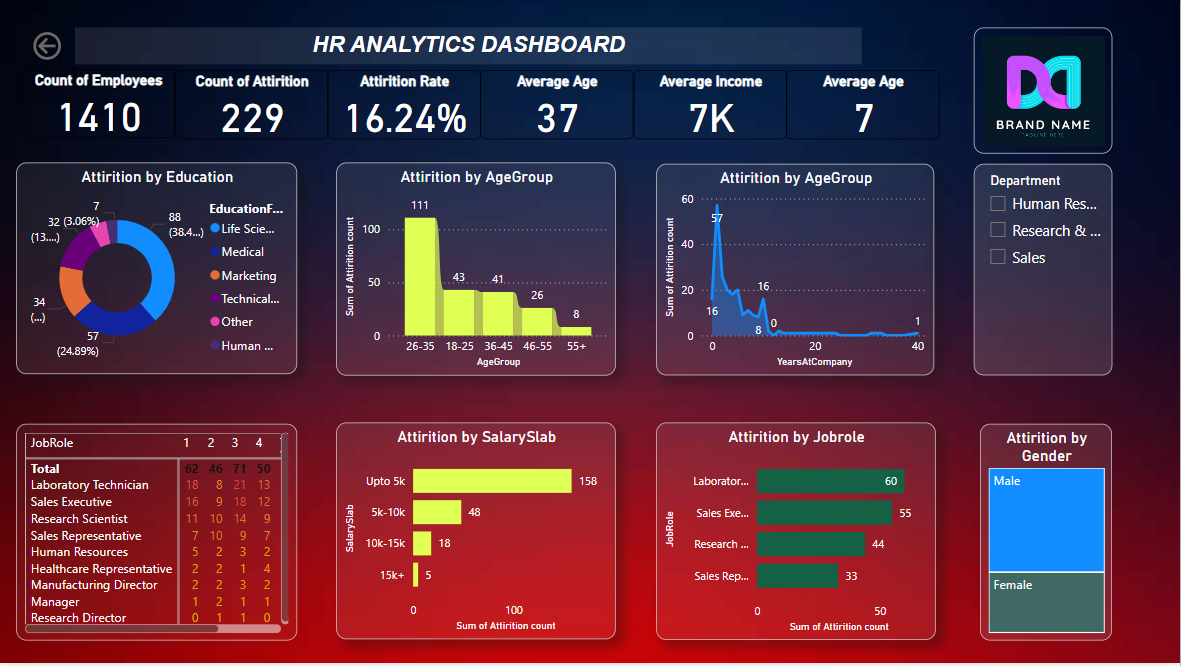

What the dashboard file says about the page in this screenshot:
{"tool":"powerbi","page":{"name":"Page 1","canvas":[1280,720],"ordinal":0},"visuals":[{"type":"card","title":"Count of Employees","fields":{"Values":["CountNonNull(HR_Analytics.EmpID)"]},"box":[23.2,75.1,166.7,75.1],"z":0},{"type":"card","title":"Count  of Attirition","fields":{"Values":["Sum(HR_Analytics.Attirition count)"]},"box":[189.3,75.4,166,75.5],"z":1000},{"type":"card","title":"Attirition Rate","fields":{"Values":["HR_Analytics.attrirtion rate"]},"box":[355.4,75.4,166,75.5],"z":2000},{"type":"card","title":"Average Age","fields":{"Values":["Avg(HR_Analytics.Age)"]},"box":[521.4,75.4,166,75.5],"z":3000},{"type":"card","title":"Average Income","fields":{"Values":["Avg(HR_Analytics.MonthlyIncome)"]},"box":[687.5,75.4,166,75.5],"z":4000},{"type":"card","title":"Average Age","fields":{"Values":["Avg(HR_Analytics.YearsAtCompany)"]},"box":[853.5,75.4,166,75.5],"z":5000},{"type":"actionButton","box":[31.8,29.6,100,40],"z":6000},{"type":"donutChart","title":"Attirition by Education","fields":{"Category":["HR_Analytics.EducationField"],"Y":["Sum(HR_Analytics.Attirition count)"]},"box":[17.8,176.3,304.7,229.5],"z":7000},{"type":"columnChart","title":"Attirition by AgeGroup","fields":{"Category":["HR_Analytics.AgeGroup"],"Y":["Sum(HR_Analytics.Attirition count)"]},"box":[364.8,176.3,303.3,230.9],"z":8000},{"type":"pivotTable","title":"Attirition byGender","fields":{"Values":["Sum(HR_Analytics.Attirition count)"],"Columns":["HR_Analytics.JobSatisfaction"],"Rows":["HR_Analytics.JobRole"]},"box":[17.8,459.1,304.7,235],"z":9000},{"type":"clusteredBarChart","title":"Attirition by SalarySlab","fields":{"Category":["HR_Analytics.SalarySlab"],"Y":["Sum(HR_Analytics.Attirition count)"]},"box":[364.8,457.7,303.3,235],"z":10000},{"type":"clusteredBarChart","title":"Attirition by Jobrole","fields":{"Category":["HR_Analytics.JobRole"],"Y":["Sum(HR_Analytics.Attirition count)"]},"box":[711.9,457.7,303.3,236.4],"z":11000},{"type":"areaChart","title":"Attirition by AgeGroup","fields":{"Category":["HR_Analytics.YearsAtCompany"],"Y":["Sum(HR_Analytics.Attirition count)"]},"box":[711.9,177.6,302,229.5],"z":12000},{"type":"treemap","title":" Attirition by Gender","fields":{"Details":["HR_Analytics.Gender"],"Values":["Sum(HR_Analytics.Attirition count)"]},"box":[1063,459.1,143.5,235],"z":13000},{"type":"slicer","fields":{"Values":["HR_Analytics.Department"]},"box":[1056.2,177.6,150.3,229.5],"z":14000},{"type":"image","box":[1056.2,30.1,150.3,136.6],"z":15000},{"type":"textbox","box":[82,30.1,854,39.6],"z":16000}]}

Visuals, with their boxes in screenshot pixels (x1, y1, x2, y2), scaled from the page's 1280x720 canvas onto the 1181x666 screenshot:
"Count of Employees" card: 21 69 175 139
"Count  of Attirition" card: 175 70 328 140
"Attirition Rate" card: 328 70 481 140
"Average Age" card: 481 70 634 140
"Average Income" card: 634 70 787 140
"Average Age" card: 787 70 941 140
actionButton: 29 27 122 64
"Attirition by Education" donutChart: 16 163 298 375
"Attirition by AgeGroup" columnChart: 337 163 616 377
"Attirition byGender" pivotTable: 16 425 298 642
"Attirition by SalarySlab" clusteredBarChart: 337 423 616 641
"Attirition by Jobrole" clusteredBarChart: 657 423 937 642
"Attirition by AgeGroup" areaChart: 657 164 935 377
" Attirition by Gender" treemap: 981 425 1113 642
slicer - HR_Analytics.Department: 975 164 1113 377
image: 975 28 1113 154
textbox: 76 28 864 64
